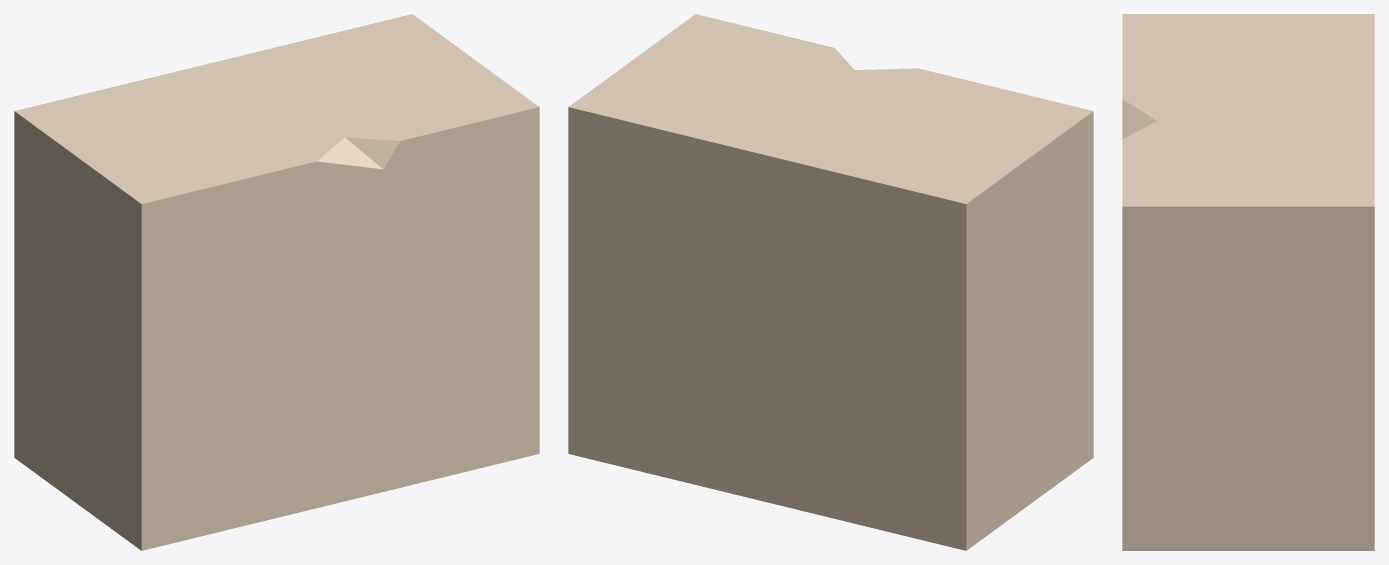
3 renders of one model, left to right at view 1: azimuth 30°, elevation 25°; view 2: azimuth 150°, elevation 25°; view 3: azimuth 270°, elevation 25°, orthographic.
Visible parts, largest first — view 1: object5; view 2: object5; view 3: object5.
Part boxes in pixels (x1,y1,x2,y2): object5: [14, 14, 539, 550]; object5: [568, 14, 1093, 550]; object5: [1122, 14, 1374, 550].
Size of the model in its own units: 0.2709 by 0.2256 by 0.15.
